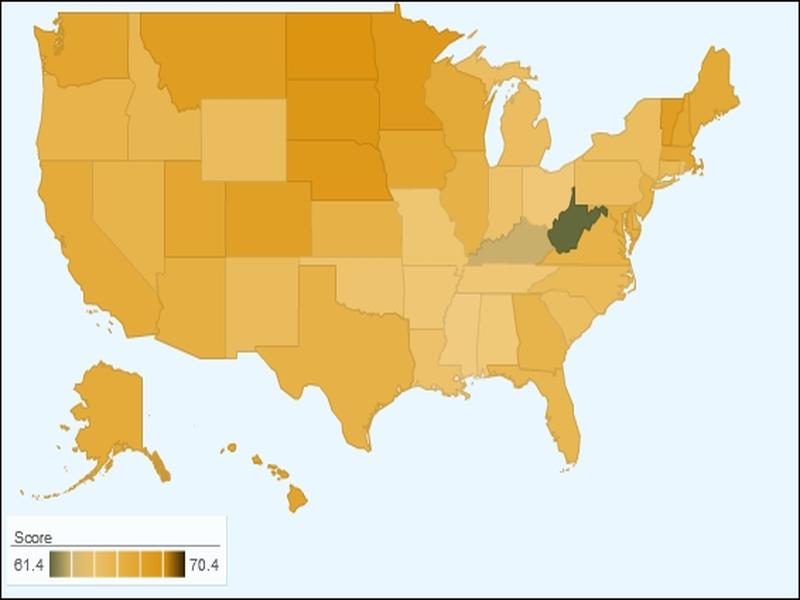legend: (3, 513, 230, 587)
